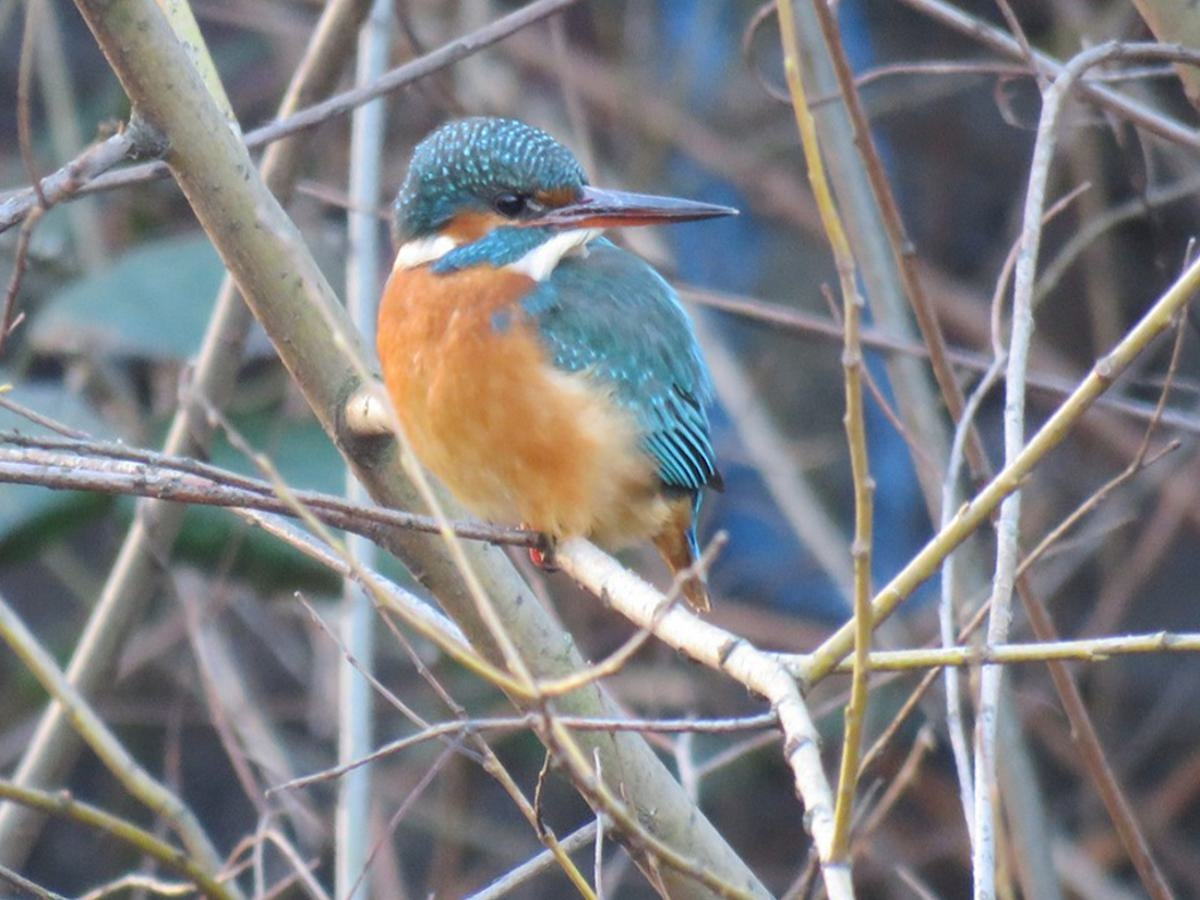kingfisher: (379, 95, 757, 624)
